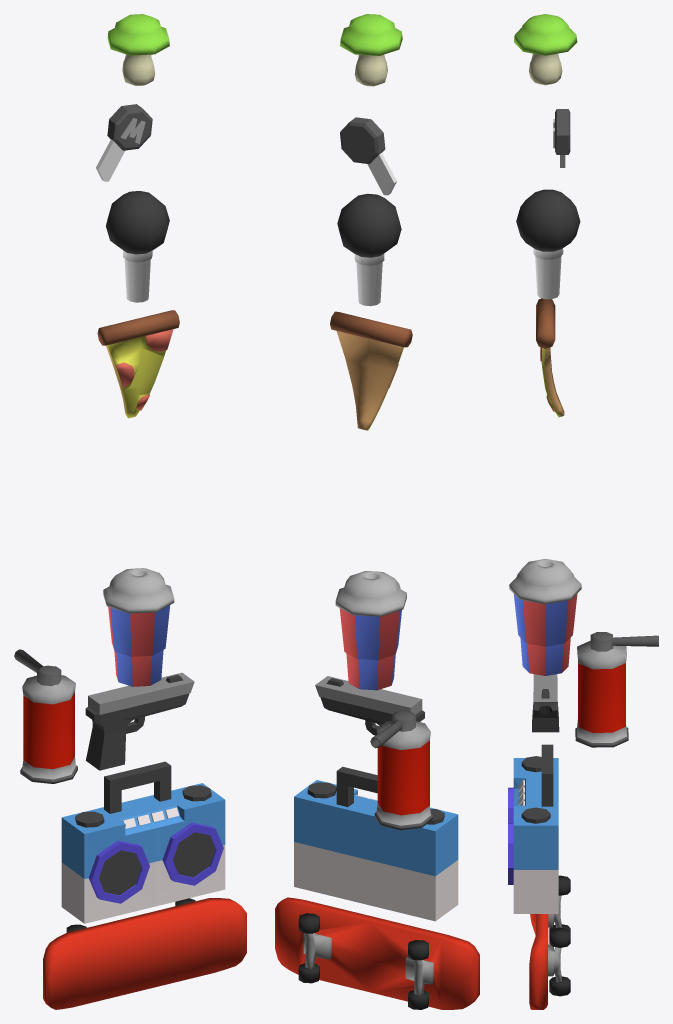
The model's file is Items.fbx.
3 renders of one model, left to right at view 1: azimuth 30°, elevation 25°; view 2: azimuth 150°, elevation 25°; view 3: azimuth 270°, elevation 25°, orthographic. The views are drawn at different scales.
Parts seen in each view (by area): view 1: Cube, SkateBoard, Cylinder, SprayCan, Cube.001, Cylinder.001, Sphere, Cylinder.003, Cylinder.002; view 2: Cube, SkateBoard, Cylinder, SprayCan, Cylinder.001, Sphere, Cube.001, Cylinder.003, Cylinder.002; view 3: Cube, Cylinder, SprayCan, Sphere, SkateBoard, Cylinder.003, Cylinder.001, Cube.001, Cylinder.002.
Boxes of the visible parts, x1,y1,x2,y2 form: Cube: (61, 761, 225, 923); SkateBoard: (43, 898, 246, 1009); Cylinder: (103, 568, 174, 686); SprayCan: (14, 649, 77, 783); Cube.001: (85, 672, 194, 770); Cylinder.001: (97, 310, 179, 418); Sphere: (106, 191, 169, 302); Cylinder.003: (107, 14, 169, 85); Cylinder.002: (96, 104, 152, 181); Cube: (294, 766, 458, 921); SkateBoard: (275, 897, 479, 1009); Cylinder: (335, 571, 406, 690); SprayCan: (370, 711, 432, 830); Cylinder.001: (330, 311, 412, 430); Sphere: (337, 193, 401, 306); Cube.001: (315, 676, 424, 735); Cylinder.003: (340, 14, 402, 86); Cylinder.002: (340, 117, 396, 195); Cube: (508, 744, 558, 913); Cylinder: (509, 558, 581, 675); SprayCan: (575, 632, 658, 747); Sphere: (516, 189, 580, 299); SkateBoard: (529, 875, 570, 1009); Cylinder.003: (514, 14, 577, 85); Cylinder.001: (536, 298, 564, 417); Cube.001: (532, 674, 559, 732); Cylinder.002: (553, 109, 570, 167).
Bounding box in the file's own units: 563 × 2608 × 375.
